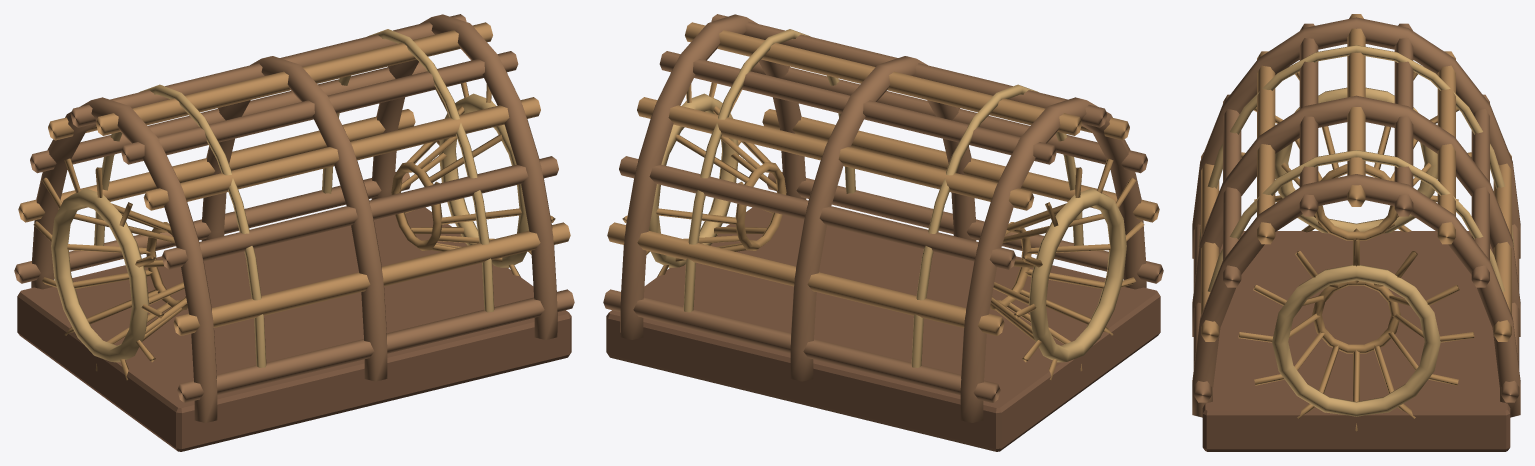
File: lobster_trap.glb
3 renders of one model, left to right at view 1: azimuth 30°, elevation 25°; view 2: azimuth 150°, elevation 25°; view 3: azimuth 270°, elevation 25°, orthographic. The views are drawn at different scales.
Visible parts, largest first — view 1: lobster_trap; view 2: lobster_trap; view 3: lobster_trap.
Part boxes in pixels (<box>): lobster_trap: <box>14,14,574,451</box>; lobster_trap: <box>603,14,1163,451</box>; lobster_trap: <box>1192,14,1520,451</box>.
Bounding box in the file's own units: 0.6 × 0.4 × 0.45.
